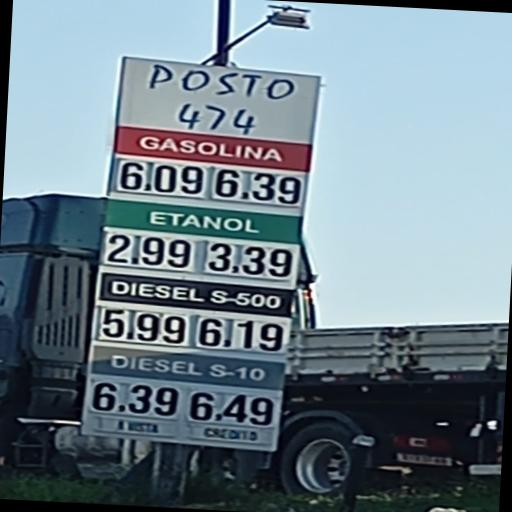ETANOL: (144, 202, 274, 240)
GASOLINA C: (134, 130, 296, 166)
S10: (101, 348, 286, 383)
S500: (101, 274, 286, 309)
placa: (83, 57, 318, 459)
preco: (111, 159, 208, 200), (105, 231, 200, 271), (99, 306, 192, 346), (92, 379, 184, 419)
